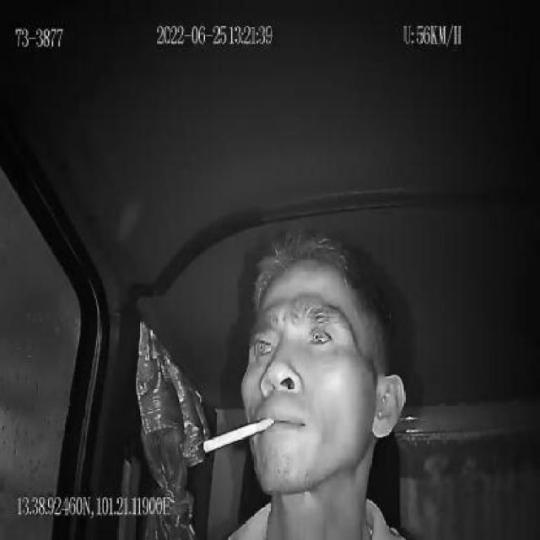smoking: (204, 417, 274, 453)
